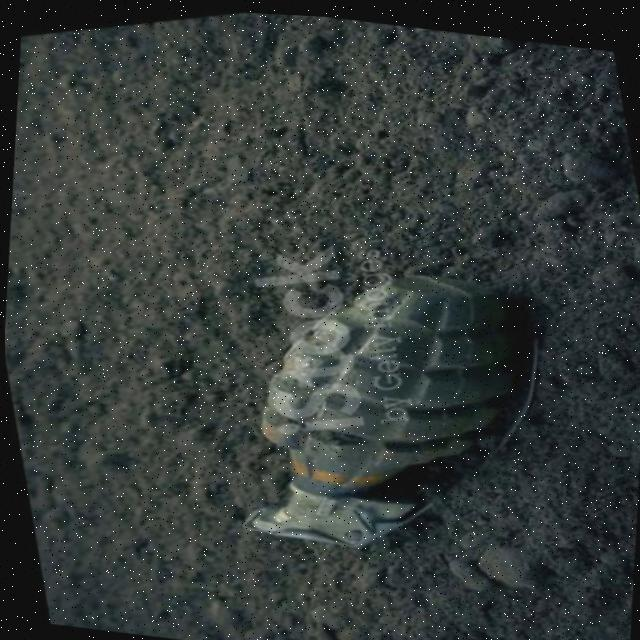grenade: (176, 215, 593, 594)
